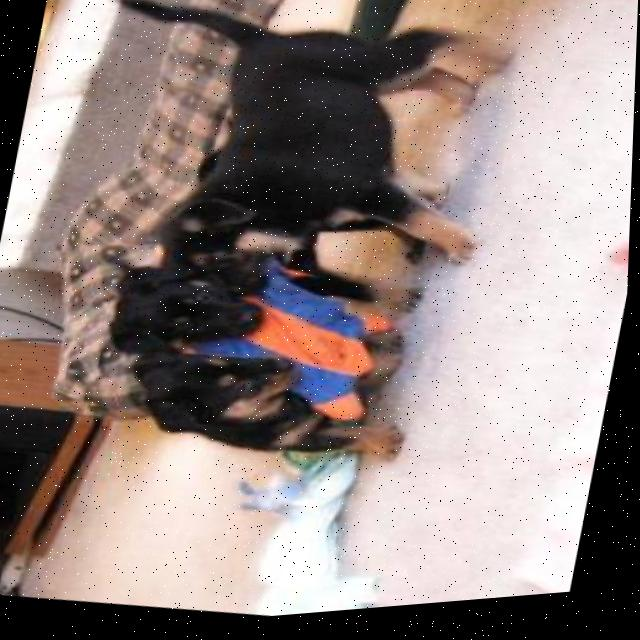dogs: (137, 0, 543, 343), (112, 317, 445, 511), (66, 256, 304, 391)
